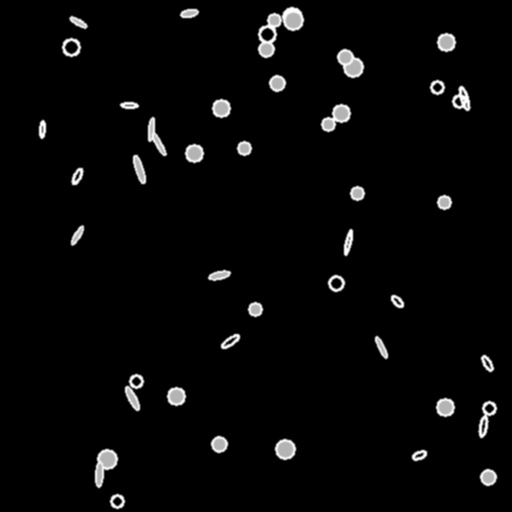pseudomonas: (131, 154, 147, 184), (123, 386, 141, 410), (150, 130, 166, 156), (457, 86, 471, 110), (69, 225, 85, 245), (220, 333, 240, 349), (374, 336, 388, 358), (208, 269, 230, 281), (343, 229, 353, 255), (389, 293, 405, 309), (480, 354, 494, 372), (69, 15, 87, 29), (478, 415, 488, 437), (95, 461, 103, 487), (411, 449, 427, 461), (147, 117, 155, 141), (71, 168, 83, 184), (180, 8, 198, 18), (39, 121, 45, 137), (121, 102, 137, 108)
synechocystis: (344, 58, 362, 76), (276, 440, 294, 458), (98, 450, 116, 468), (283, 8, 301, 26), (284, 11, 302, 29), (333, 105, 349, 121), (438, 34, 454, 50), (437, 399, 453, 415), (259, 26, 275, 42), (186, 145, 202, 161), (168, 388, 184, 404), (63, 39, 79, 55), (213, 100, 229, 116), (481, 470, 495, 484), (329, 276, 343, 290), (259, 42, 273, 56), (212, 437, 226, 451), (270, 76, 284, 90), (338, 50, 352, 64), (453, 95, 465, 107), (249, 303, 261, 315), (438, 196, 450, 208), (322, 118, 334, 130), (268, 14, 280, 26), (130, 375, 142, 387), (111, 495, 123, 507), (483, 402, 495, 414), (351, 187, 363, 199), (431, 81, 443, 93), (238, 142, 250, 154)
